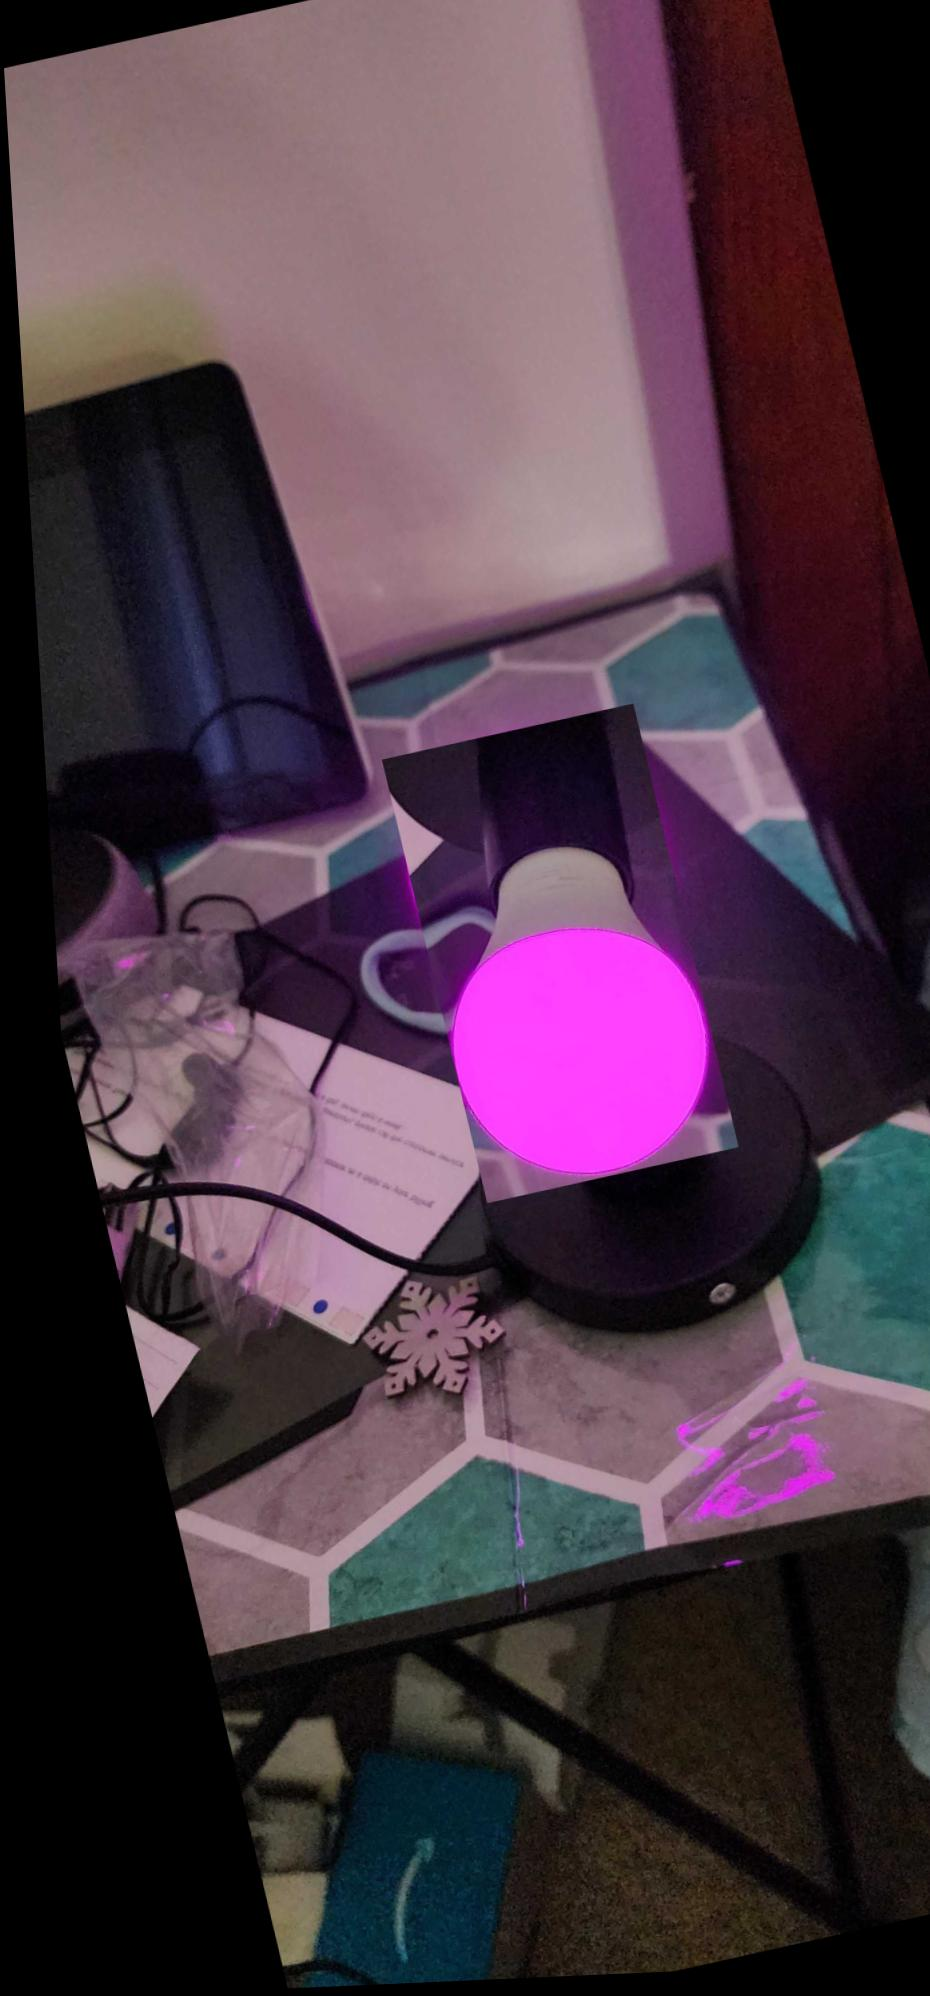TubeLight: (369, 705, 725, 1209)
